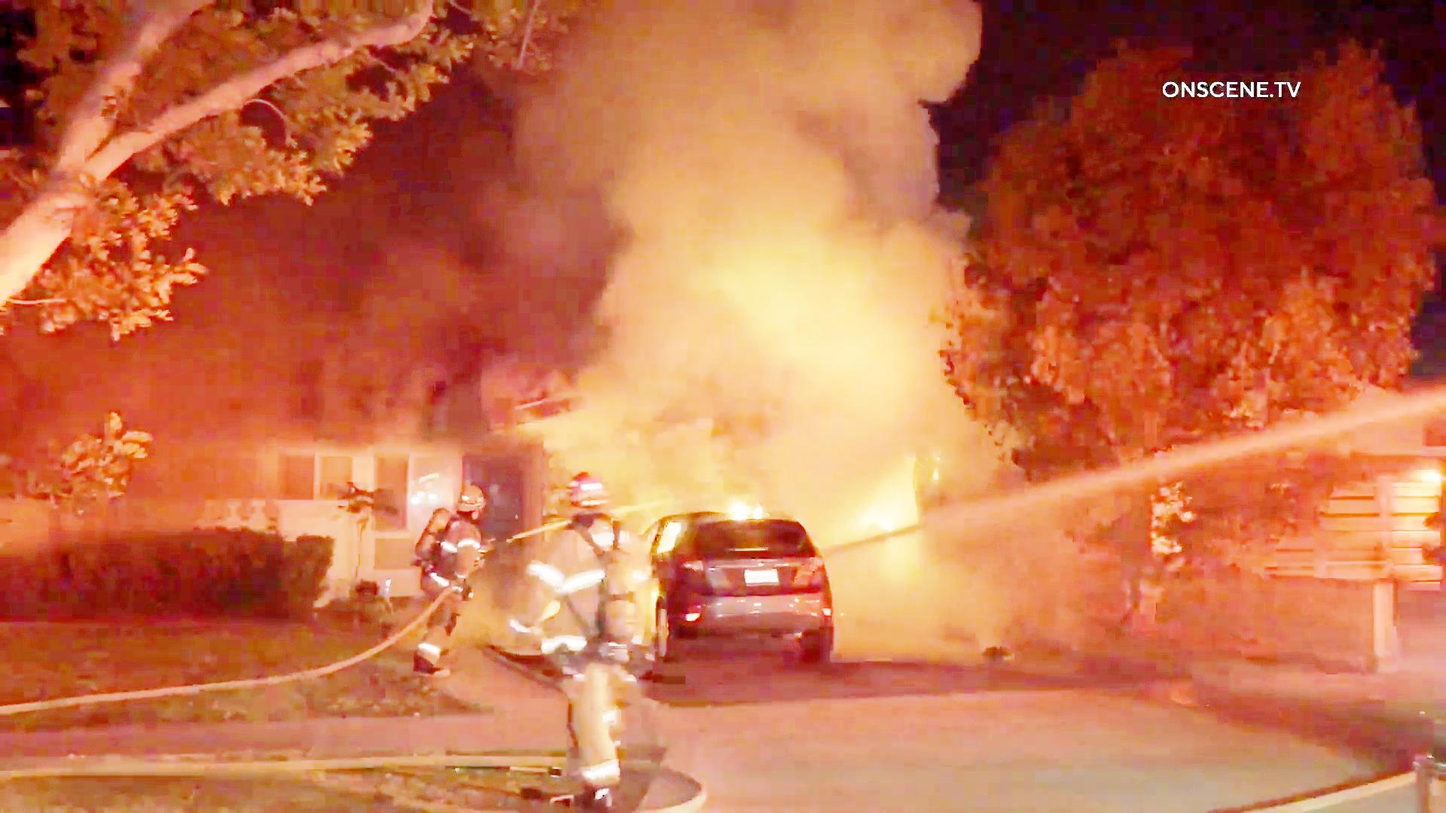fire: (706, 472, 788, 530)
smoke: (418, 140, 956, 446), (599, 8, 959, 150), (860, 544, 1028, 646)
